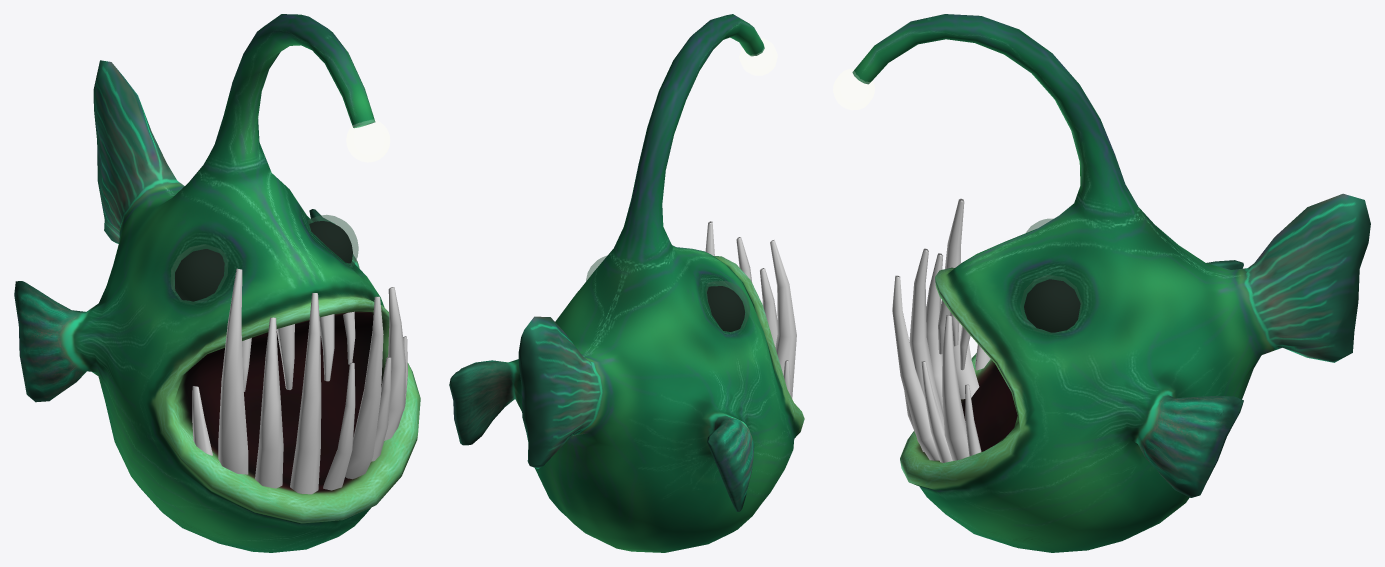
The model's file is lanternfish_lamp2.glb.
3 renders of one model, left to right at view 1: azimuth 30°, elevation 25°; view 2: azimuth 150°, elevation 25°; view 3: azimuth 270°, elevation 25°, orthographic. The views are drawn at different scales.
Visible parts, largest first — view 1: FISH_LOW, TEETH, EYES, EYES_LIMP, LAMP; view 2: FISH_LOW, TEETH, EYES, EYES_LIMP, LAMP; view 3: FISH_LOW, TEETH, EYES, EYES_LIMP, LAMP.
Boxes of the visible parts, <box> form: FISH_LOW: <box>14,14,420,552</box>; TEETH: <box>192,268,407,494</box>; EYES: <box>170,215,358,304</box>; EYES_LIMP: <box>175,221,352,301</box>; LAMP: <box>346,119,389,162</box>; FISH_LOW: <box>449,14,804,552</box>; TEETH: <box>705,221,796,398</box>; EYES: <box>586,256,749,332</box>; EYES_LIMP: <box>707,286,744,331</box>; LAMP: <box>739,38,777,75</box>; FISH_LOW: <box>852,14,1370,552</box>; TEETH: <box>892,198,990,462</box>; EYES: <box>1020,218,1082,334</box>; EYES_LIMP: <box>1024,279,1080,332</box>; LAMP: <box>833,69,874,109</box>.
Bounding box in the file's own units: 1.49 × 2.4 × 2.23.
5 materials, 1 textured.
